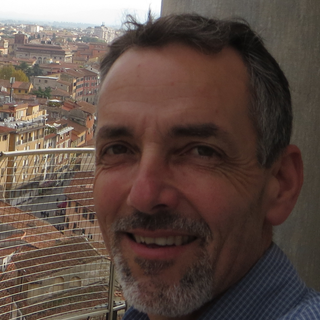eye: (178, 139, 228, 163), (97, 139, 140, 162)
